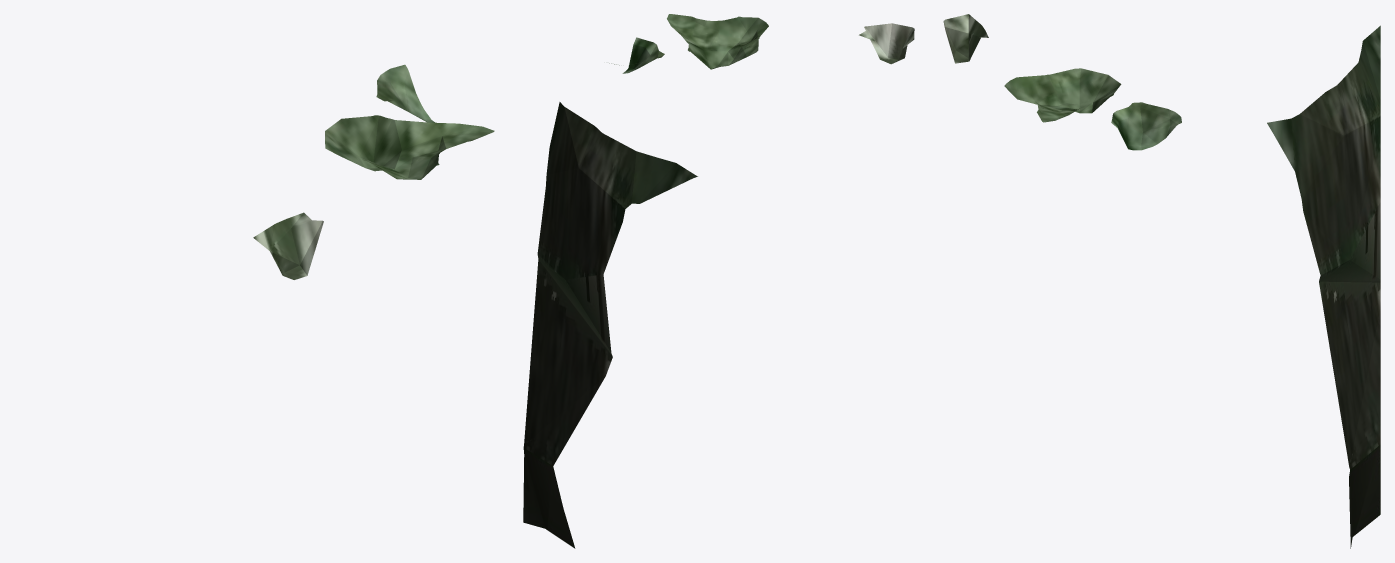
3 renders of one model, left to right at view 1: azimuth 30°, elevation 25°; view 2: azimuth 150°, elevation 25°; view 3: azimuth 270°, elevation 25°, orthographic. The views are drawn at different scales.
Size of the model in its own units: 1.62 by 2.95 by 2.74.
Materials: 1 (1 with a texture image).
